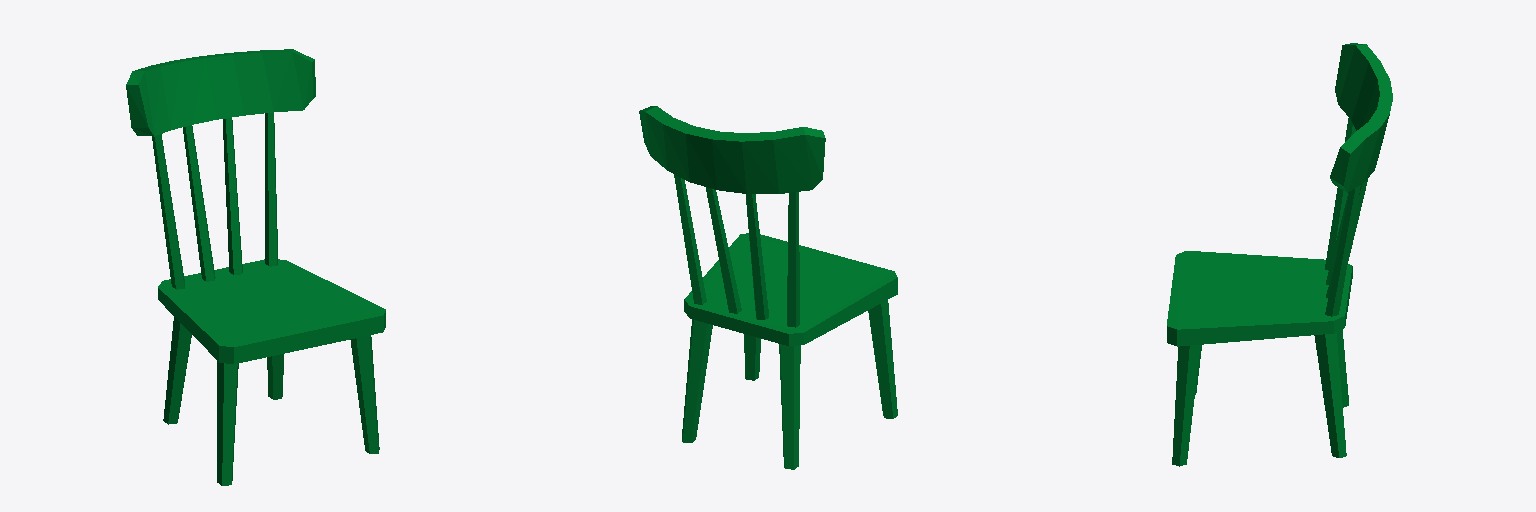
File: Chair.obj
3 views of the same model, side by side, from view 1: azimuth 30°, elevation 25°; view 2: azimuth 150°, elevation 25°; view 3: azimuth 270°, elevation 25° (orthographic).
Parts seen in each view (by area): view 1: Chair; view 2: Chair; view 3: Chair.
Boxes of the visible parts, x1=… form: Chair: x1=126, y1=49, x2=385, y2=485; Chair: x1=639, y1=106, x2=897, y2=469; Chair: x1=1167, y1=43, x2=1392, y2=466.
Bounding box in the file's own units: 80.57 × 143 × 84.2.